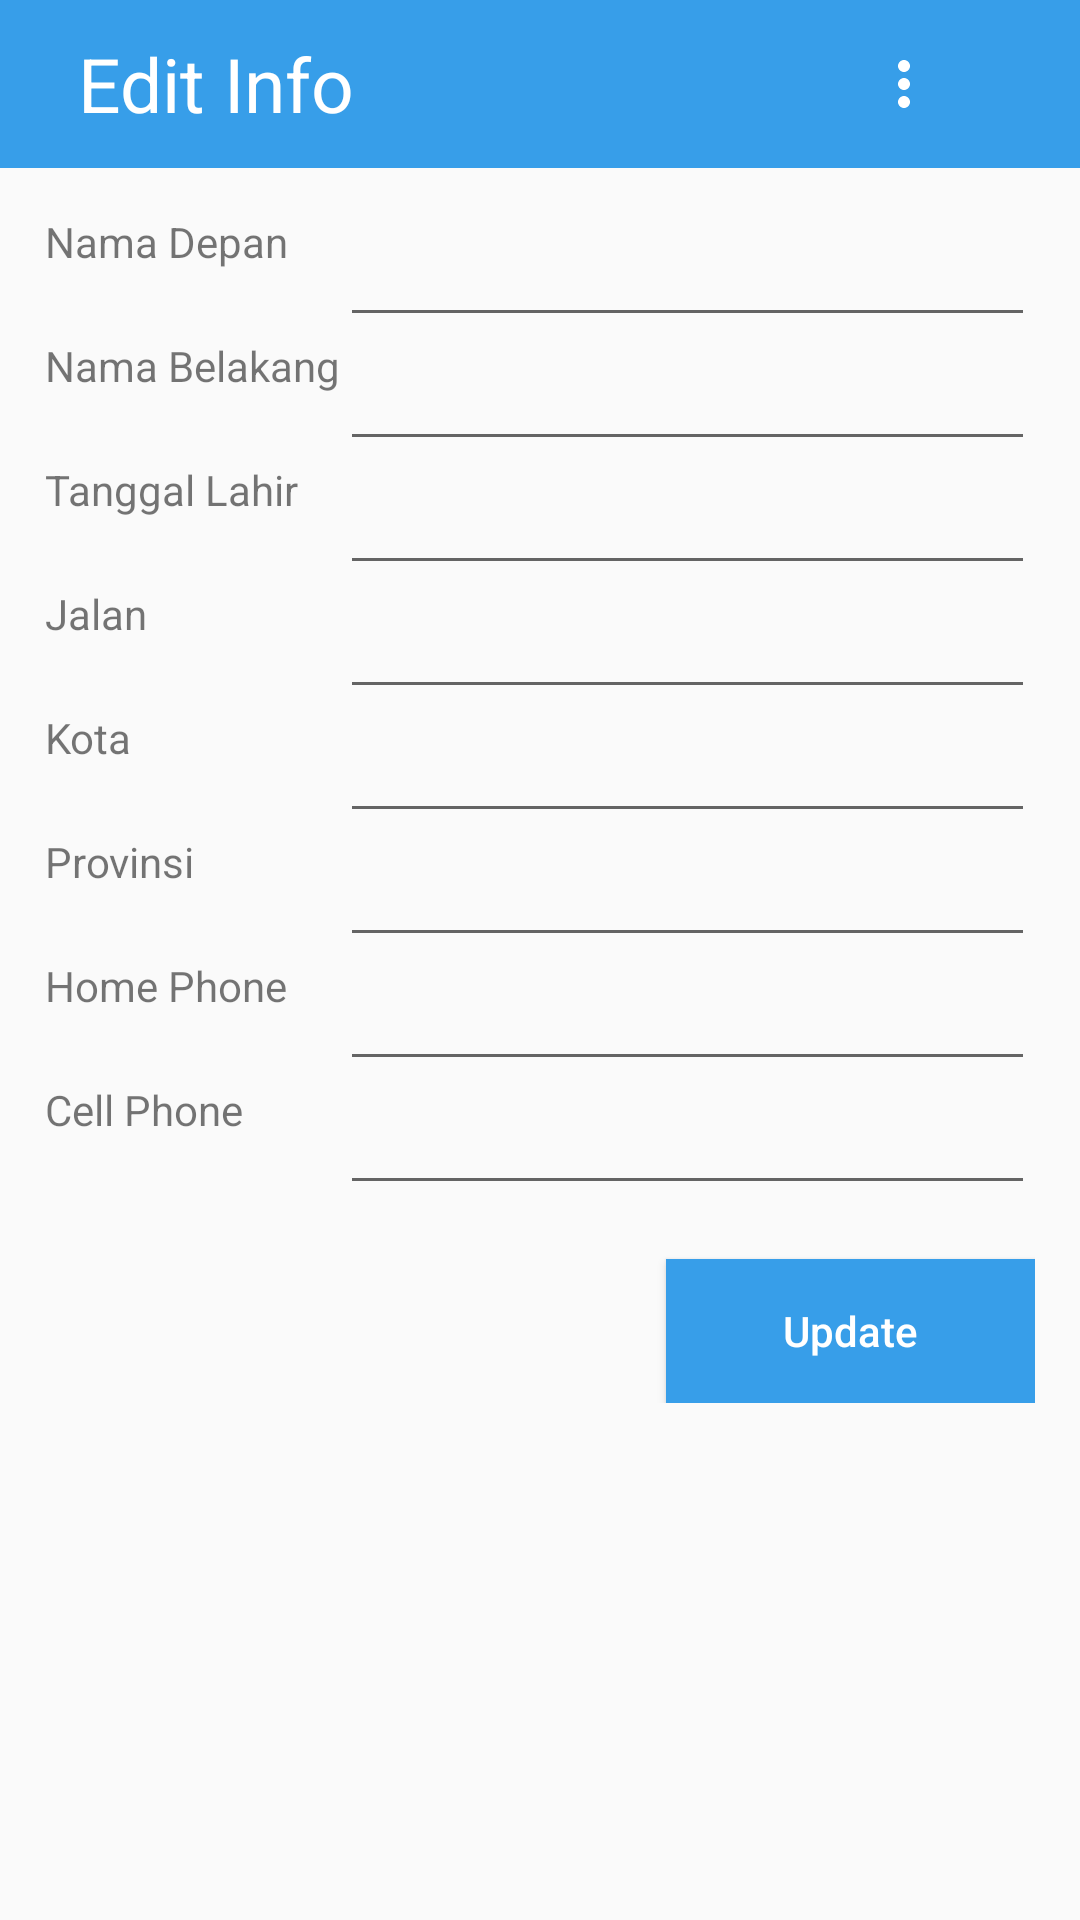

Locate icon controls on the screen. Image size 1080 x 1920, boxes as (x1, y1, x2, y2).
more vert: (898, 60, 910, 108)
